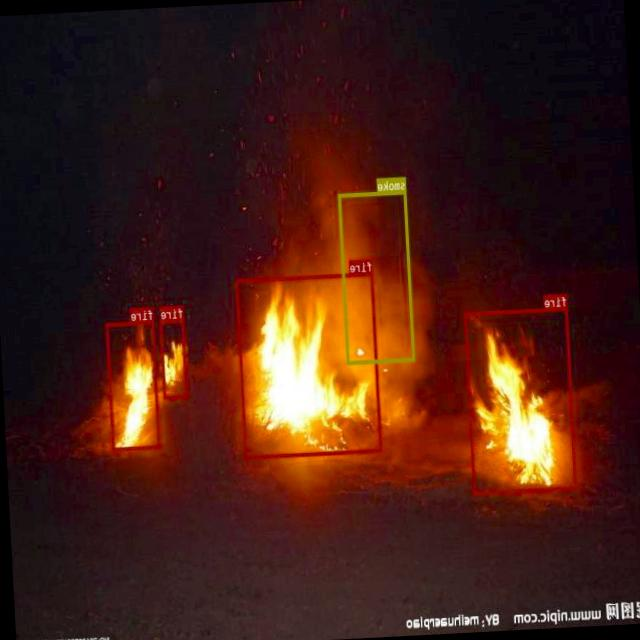fire: (236, 272, 384, 458), (464, 306, 578, 494), (106, 320, 161, 450), (160, 318, 189, 399)
smoke: (339, 190, 416, 364)
